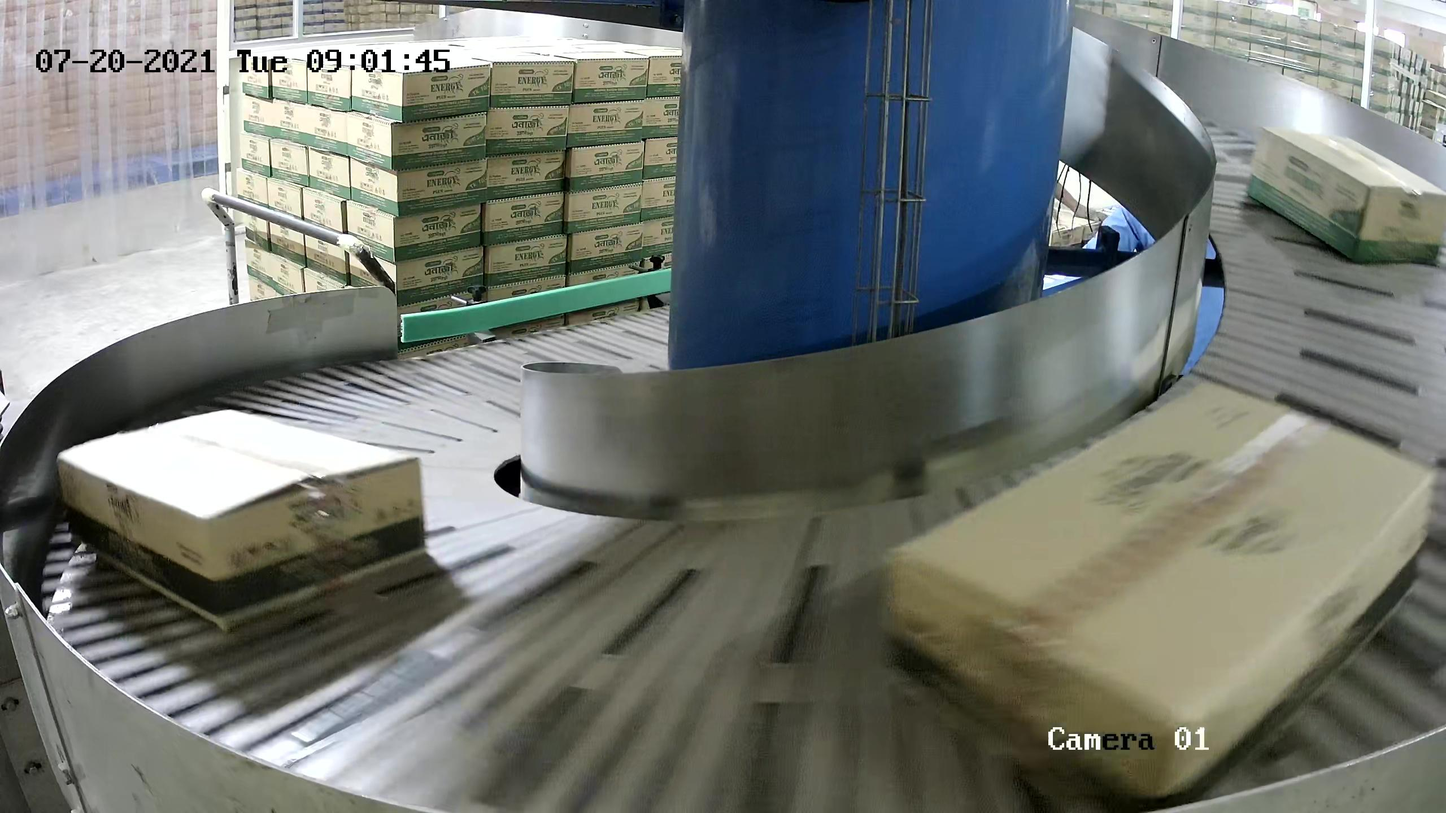Box: (881, 367, 1439, 809), (55, 403, 431, 632), (1245, 124, 1446, 266)
